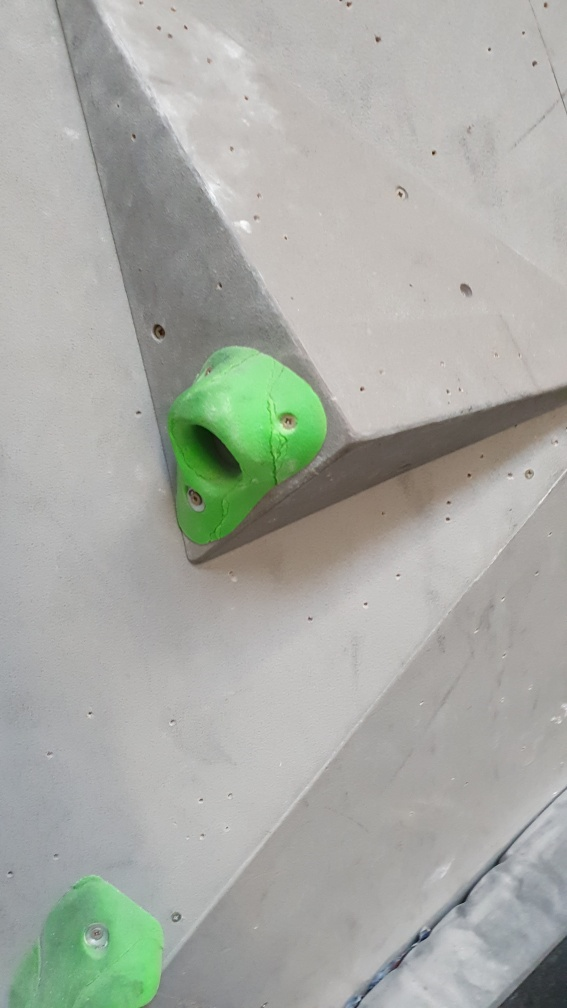Pocket: (161, 343, 328, 553)
